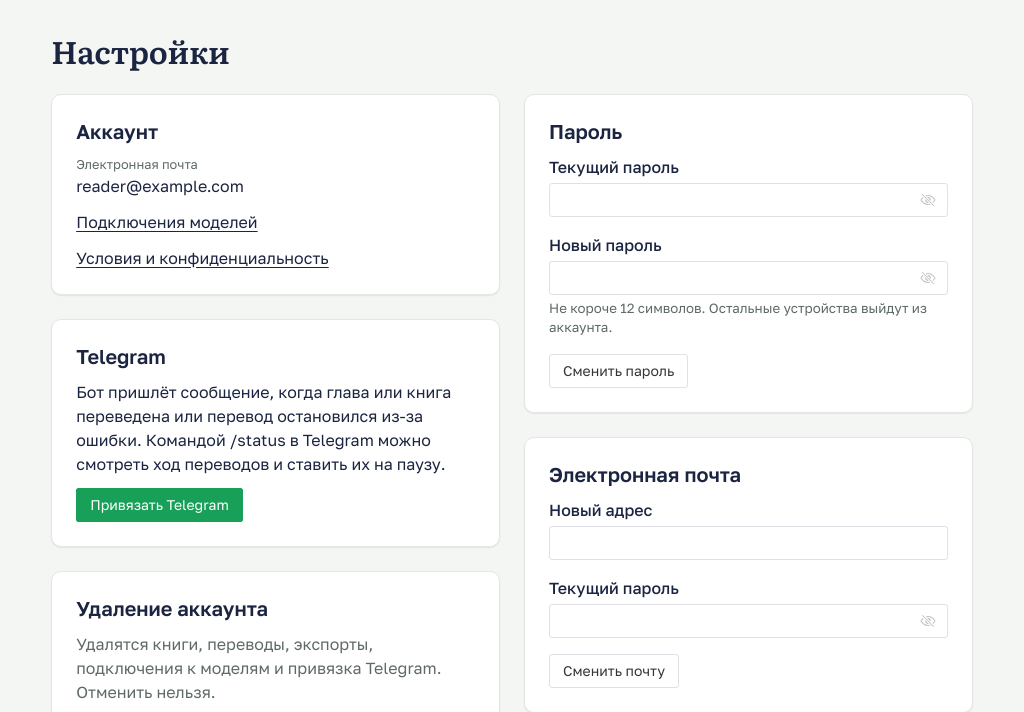
Scenario: настройки › ссылка устарела — опрос останавливается, можно получить новую
Click the button "Привязать Telegram": click(160, 505) [76, 488, 243, 522]
Wait 39000 ms
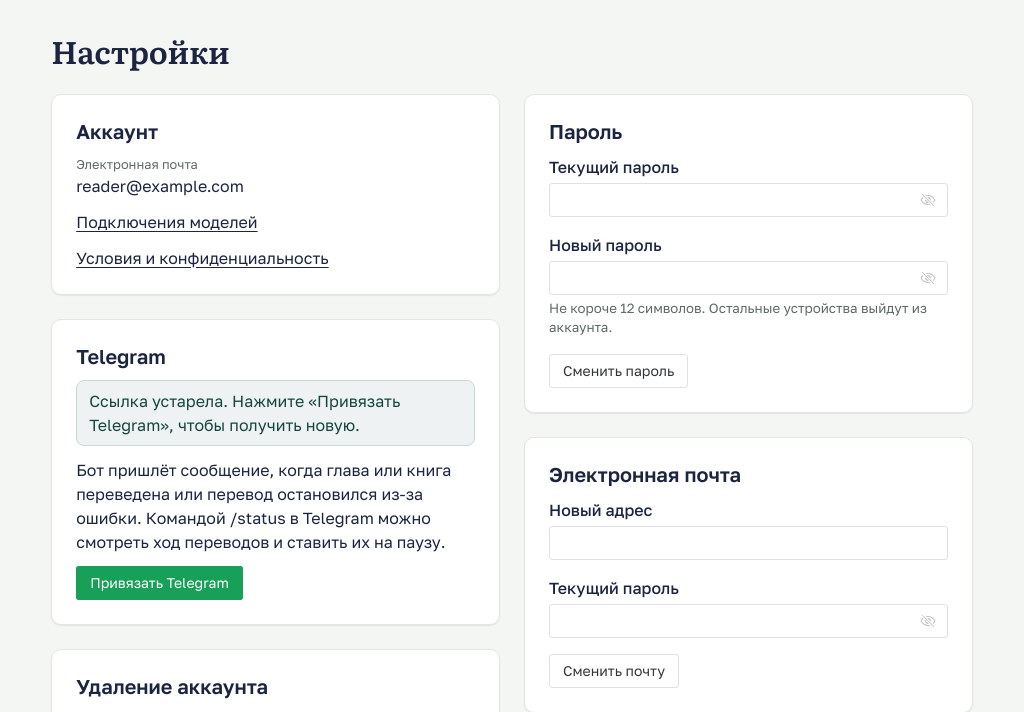
Check: the button "Привязать Telegram" is shown, box [76, 566, 243, 600]
Check: the text "Ссылка устарела" is shown, box [89, 391, 400, 435]
